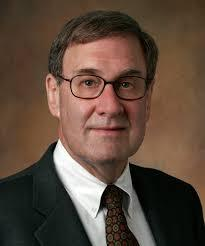sunglasses: (61, 67, 156, 106)
